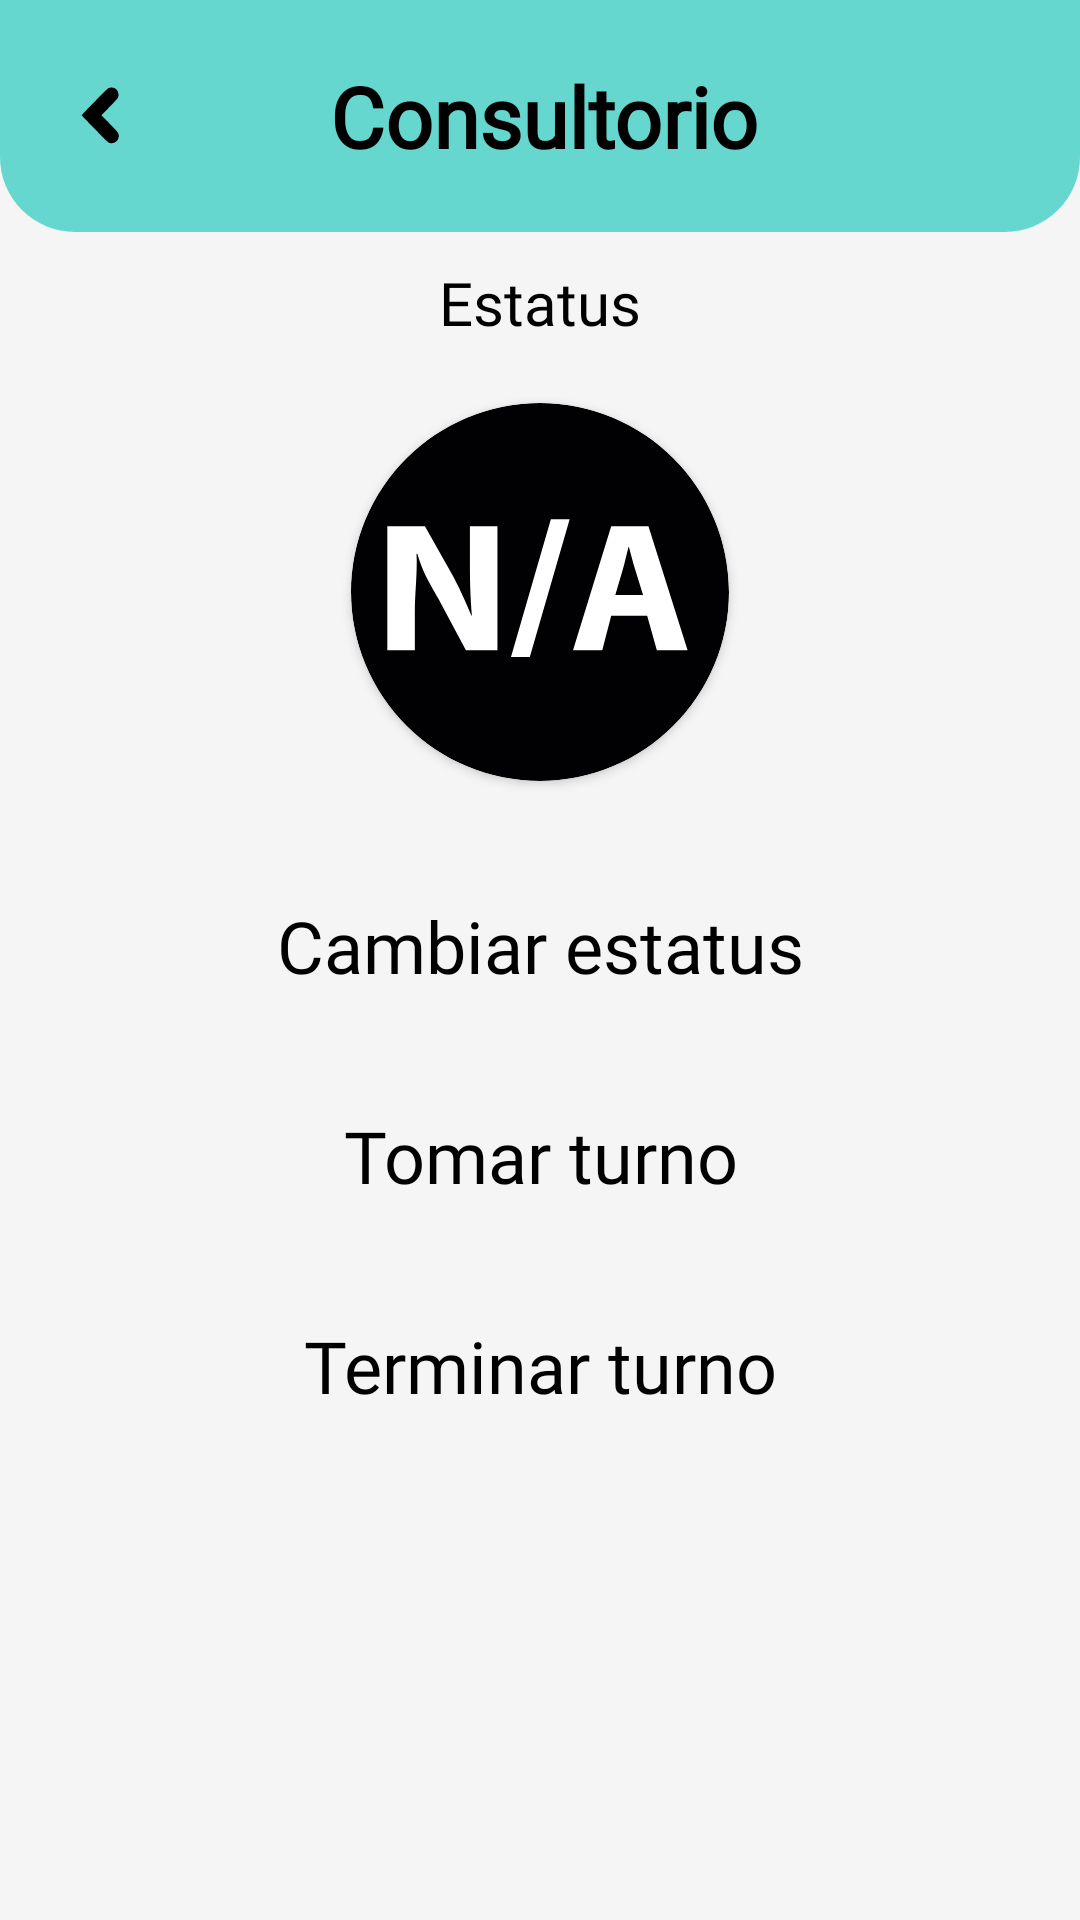

Locate icon controls on the screen. Image size 1080 × 1920, boxes as (x1, y1, x2, y2).
flecha atras: (81, 87, 119, 144)
